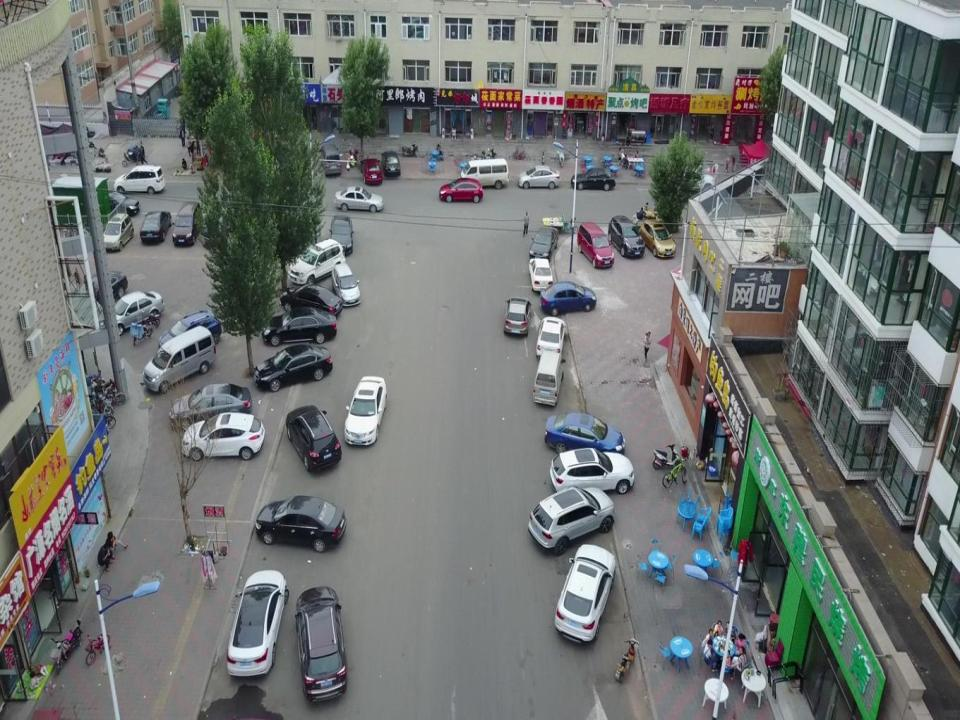car: (226, 570, 289, 678), (554, 543, 616, 646), (294, 585, 348, 703), (528, 487, 616, 556), (254, 495, 347, 553), (181, 411, 265, 462), (549, 447, 635, 496), (168, 383, 252, 433), (544, 411, 626, 462), (253, 342, 334, 392), (286, 404, 342, 472), (158, 308, 222, 358), (344, 375, 388, 447), (261, 306, 338, 345), (99, 290, 164, 336), (287, 237, 346, 286), (280, 284, 343, 320), (71, 268, 129, 307), (538, 281, 597, 317), (608, 214, 646, 260), (113, 164, 166, 195), (638, 219, 677, 260), (99, 213, 135, 253), (536, 316, 567, 362), (334, 185, 384, 213), (330, 262, 361, 306), (97, 190, 141, 218), (503, 295, 532, 337), (570, 167, 617, 192), (439, 177, 484, 203), (139, 211, 172, 245), (529, 226, 559, 262), (516, 165, 560, 189), (330, 215, 354, 255), (528, 257, 553, 293), (361, 158, 383, 186), (380, 150, 401, 178)
truck: (152, 98, 171, 124)
van: (142, 326, 217, 396), (577, 221, 615, 269), (532, 351, 564, 406), (458, 158, 510, 190), (172, 200, 204, 248), (318, 142, 343, 177)
